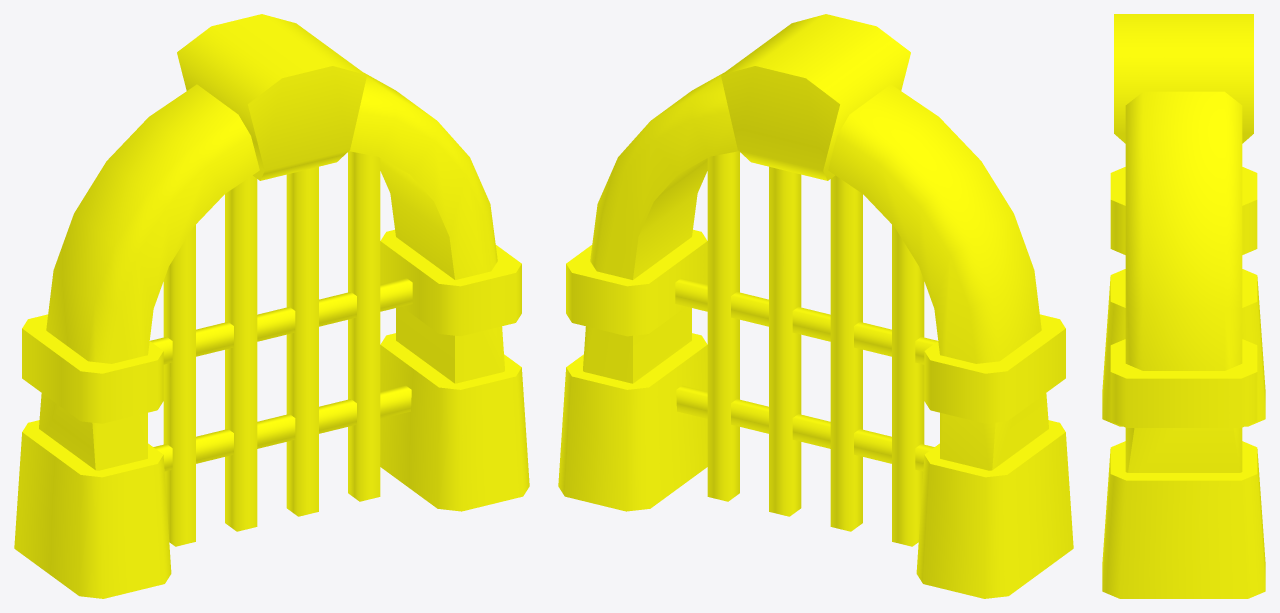
Rendered from 围墙门楼_门_铁栅栏.glb.
3 views of the same model, side by side, from view 1: azimuth 30°, elevation 25°; view 2: azimuth 150°, elevation 25°; view 3: azimuth 270°, elevation 25° (orthographic).
Parts seen in each view (by area): view 1: gate-metal-bars, gate; view 2: gate-metal-bars, gate; view 3: gate-metal-bars.
Boxes of the visible parts, x1=… form: gate-metal-bars: x1=14, y1=14, x2=529, y2=598; gate: x1=150, y1=151, x2=412, y2=546; gate-metal-bars: x1=558, y1=14, x2=1073, y2=598; gate: x1=675, y1=151, x2=937, y2=546; gate-metal-bars: x1=1102, y1=14, x2=1265, y2=598.
Size of the model in its own units: 4.4 by 4.4 by 1.4.
1 material, 1 textured.
